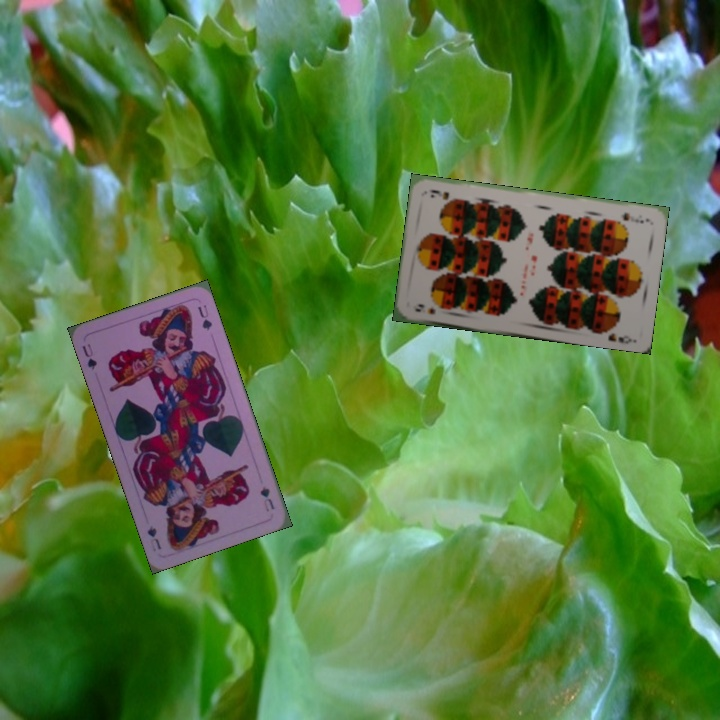GU: (78, 340, 99, 372), (256, 482, 277, 514)
S9: (618, 208, 651, 226), (411, 300, 438, 317)
